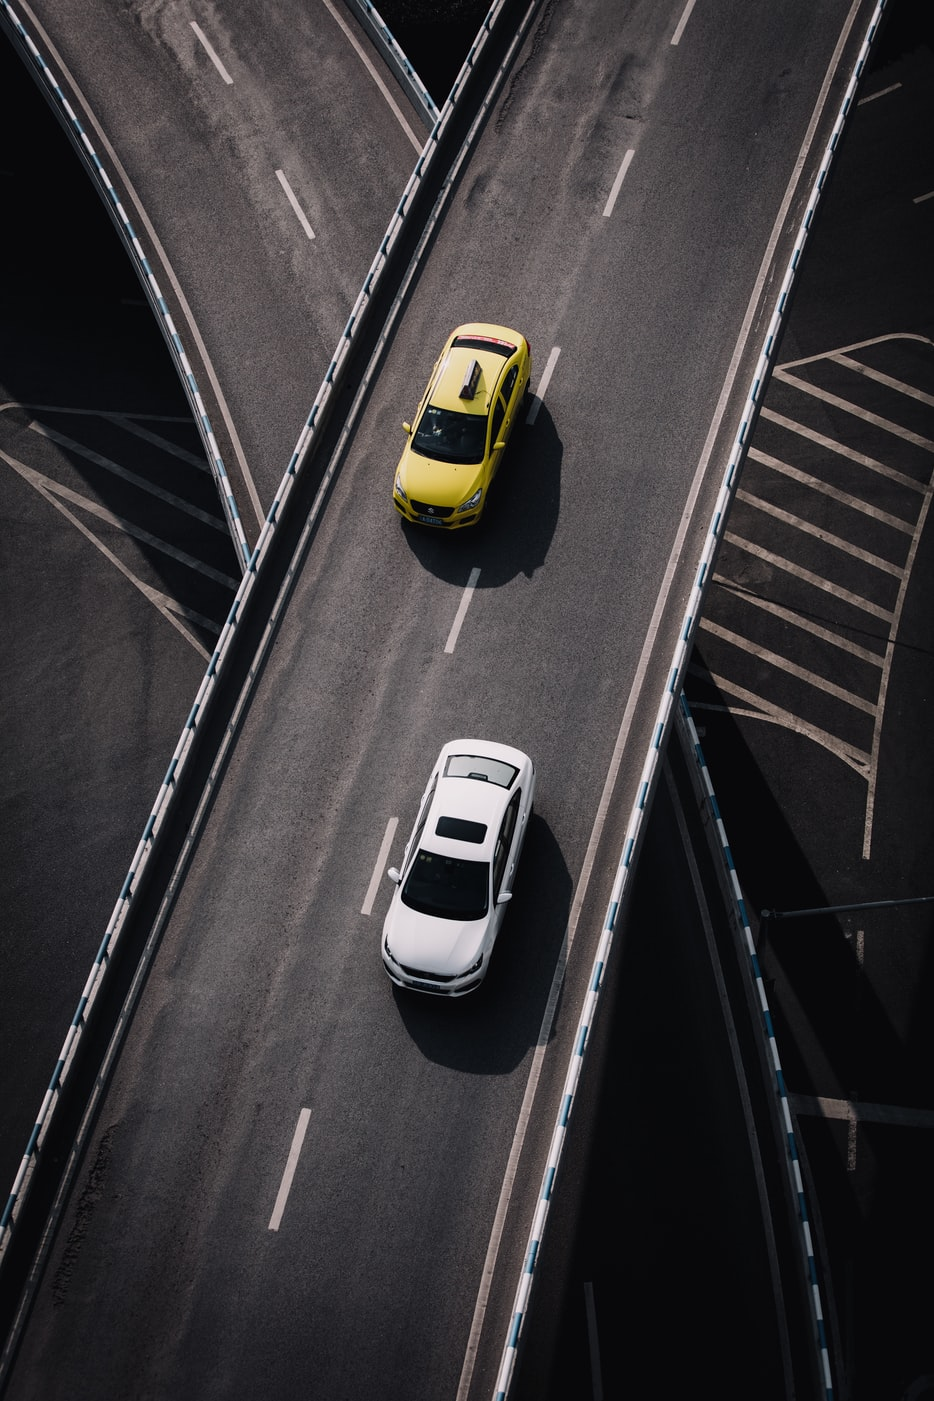car: (372, 734, 543, 1003), (385, 318, 542, 532)
